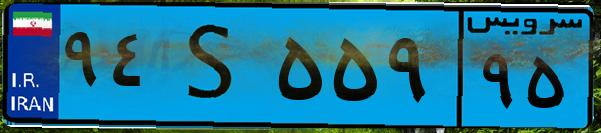4: (110, 28, 158, 98)
5: (270, 28, 330, 110), (330, 28, 385, 110), (525, 38, 570, 115)
9: (385, 28, 445, 110), (57, 26, 110, 100), (475, 38, 525, 113)
S: (158, 12, 270, 120)
